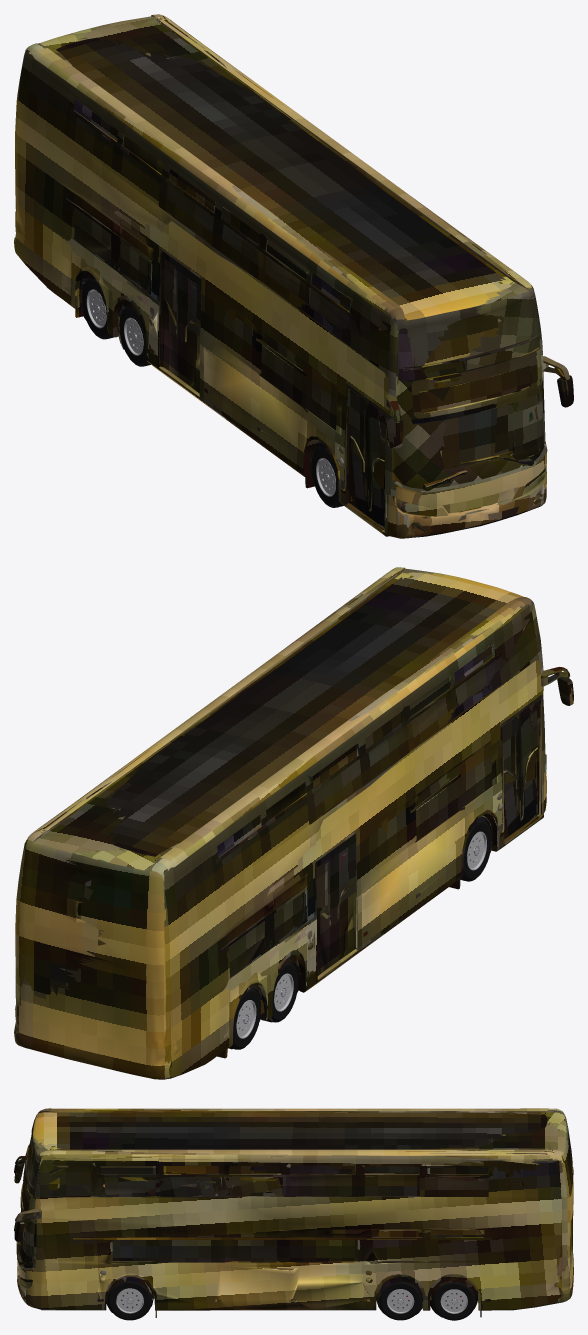
The model's file is bus_m.glb.
3 views of the same model, one above another, from view 1: azimuth 30°, elevation 25°; view 2: azimuth 150°, elevation 25°; view 3: azimuth 270°, elevation 25° (orthographic). The views are drawn at different scales.
Parts seen in each view (by area): view 1: karosserie, rad_vr, rad_hr2, rad_hr; view 2: karosserie, rad_vr, rad_hr2, rad_hr; view 3: karosserie, rad_vl, rad_hl2, rad_hl.
Boxes of the visible parts, <box> form: karosserie: <box>14,14,573,538</box>; rad_vr: <box>311,446,343,507</box>; rad_hr2: <box>82,278,124,339</box>; rad_hr: <box>119,306,150,366</box>; karosserie: <box>14,567,573,1079</box>; rad_vr: <box>460,820,491,881</box>; rad_hr2: <box>232,988,260,1049</box>; rad_hr: <box>255,962,298,1022</box>; karosserie: <box>14,1108,573,1317</box>; rad_vl: <box>107,1281,152,1320</box>; rad_hl2: <box>432,1282,475,1320</box>; rad_hl: <box>378,1282,422,1320</box>.
Size of the model in its own units: 3.69 by 4.48 by 13.73.
3 materials, 1 textured.
